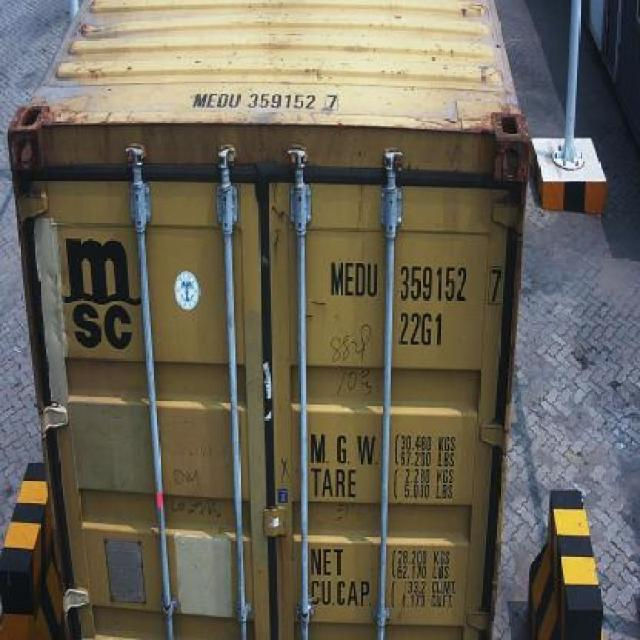ISO: (396, 310, 442, 346)
container_number: (330, 266, 510, 300)
